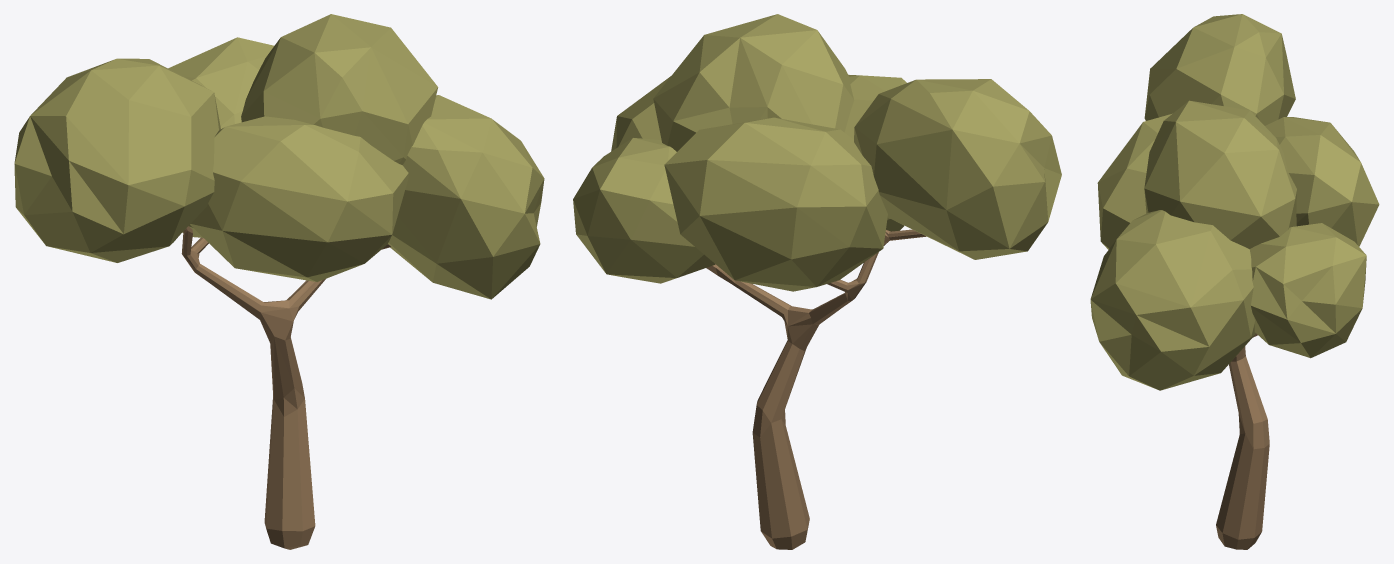
File: tree5.fbx
3 renders of one model, left to right at view 1: azimuth 30°, elevation 25°; view 2: azimuth 150°, elevation 25°; view 3: azimuth 270°, elevation 25°, orthographic. The views are drawn at different scales.
Parts seen in each view (by area): view 1: Sphere.006; view 2: Sphere.006; view 3: Sphere.006.
Boxes of the visible parts, box(x1,y1,x2,y2) form: Sphere.006: box(14, 14, 544, 549); Sphere.006: box(573, 14, 1061, 549); Sphere.006: box(1090, 14, 1379, 549).
Bounding box in the file's own units: 633 × 662 × 384.
Materials: 1 (1 with a texture image).
